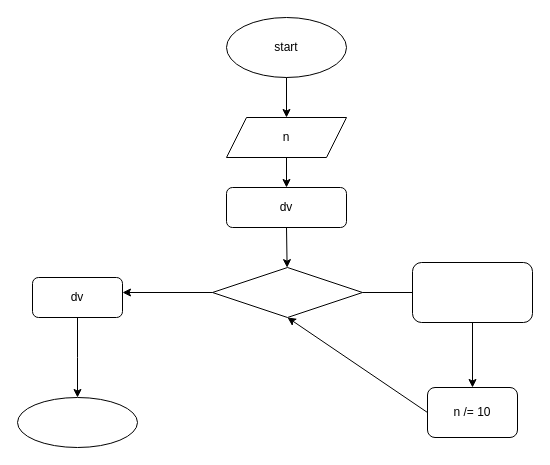
Image size: 550x465. Some labels were removed from this diagram. The shapes that lost their labels are listed below. From the top down, each one's centre as x and y in pixels, then its label:
At (x=287, y=292): "n != 0".
At (x=472, y=292): "dv = n % 10".
At (x=77, y=422): "end".
